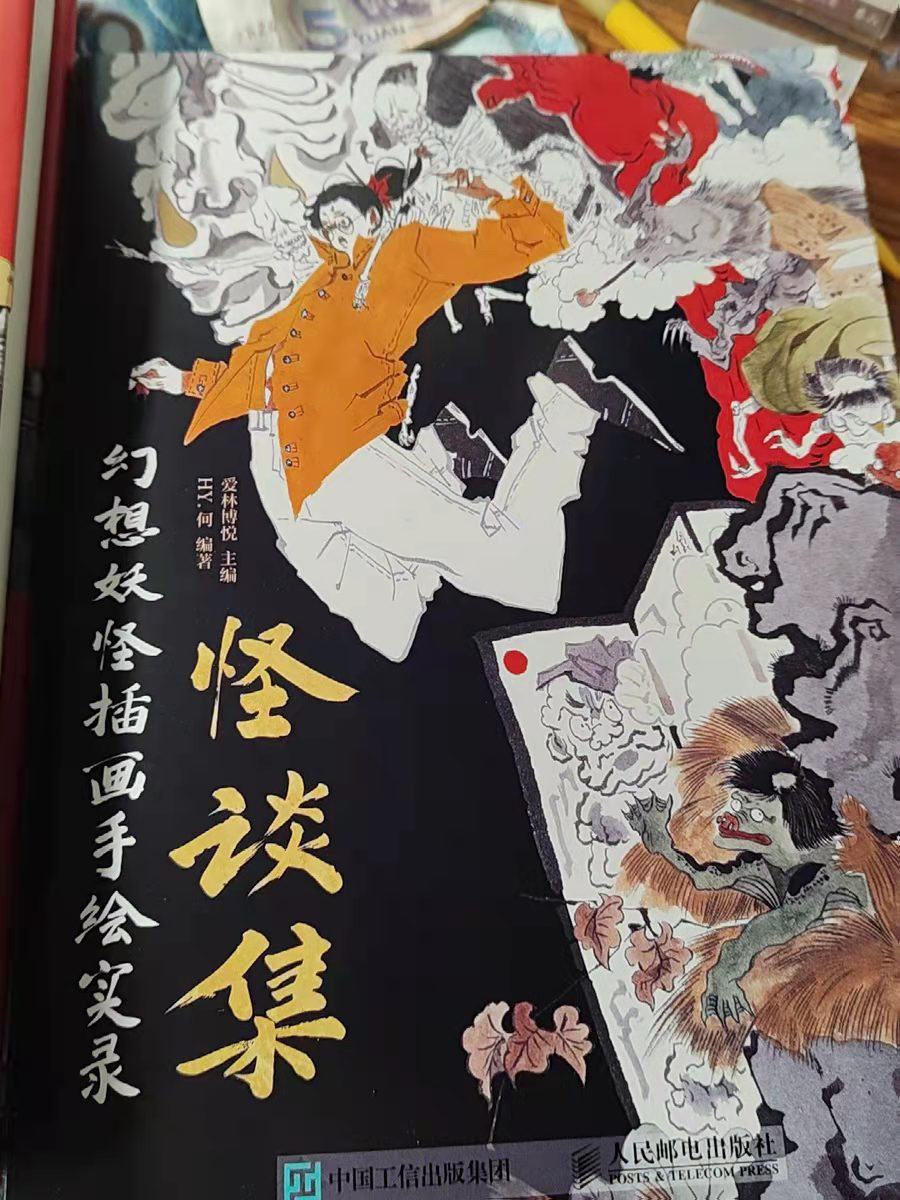book: (10, 52, 895, 1200)
